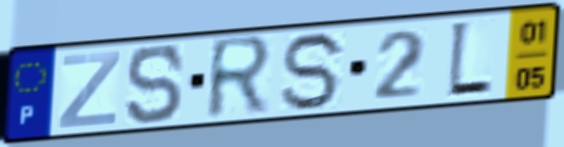2: (371, 27, 429, 103)
L: (444, 19, 496, 102)
R: (203, 32, 277, 125)
S: (279, 29, 350, 115), (124, 42, 188, 127)
Z: (55, 48, 124, 131)
